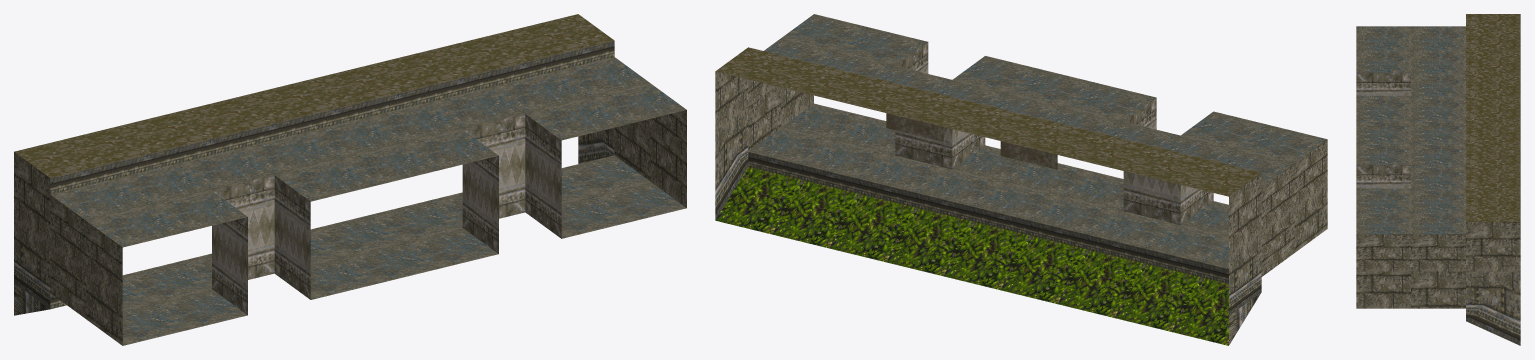
Rendered from room25.obj.
3 views of the same model, side by side, from view 1: azimuth 30°, elevation 25°; view 2: azimuth 150°, elevation 25°; view 3: azimuth 270°, elevation 25° (orthographic). The views are drawn at different scales.
Visible parts, largest first — view 1: 01-Caves.025; view 2: 01-Caves.025; view 3: 01-Caves.025.
Part boxes in pixels (x1,y1,x2,y2): 01-Caves.025: (14,14,686,345); 01-Caves.025: (715,14,1327,345); 01-Caves.025: (1356,14,1520,345).
Bounding box in the file's own units: 90 × 25 × 30.
Materials: 1 (1 with a texture image).
